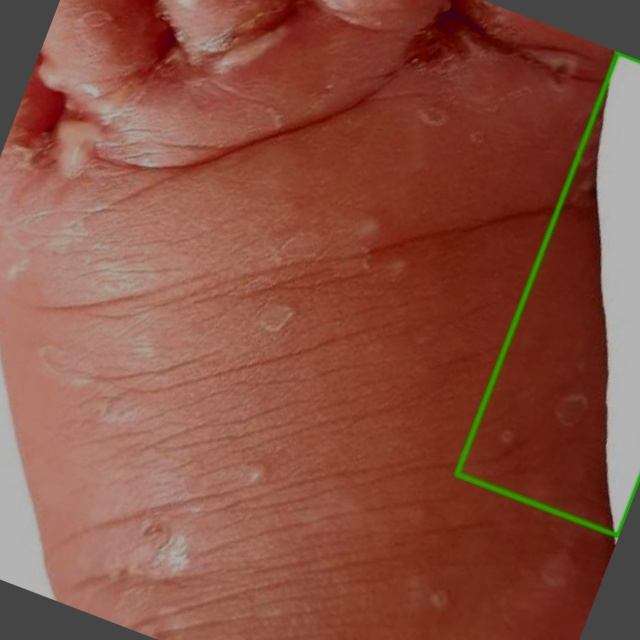Scabies: (456, 52, 639, 536)
